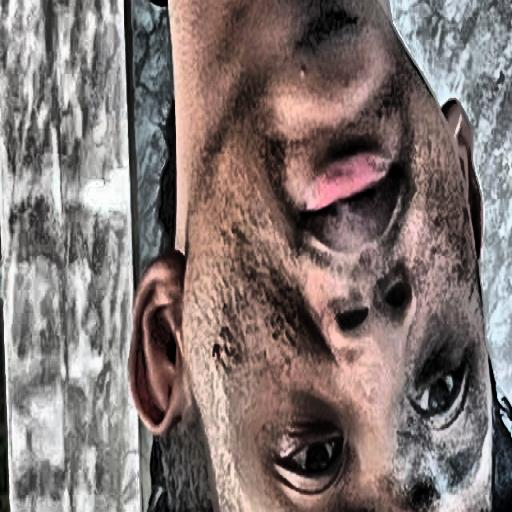Rokok: (130, 0, 512, 512)
